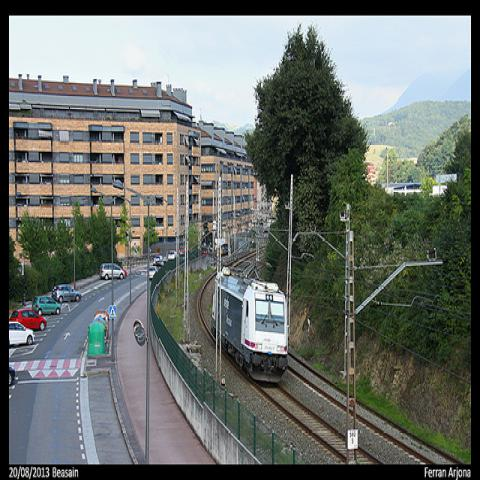car: (11, 308, 47, 329), (52, 283, 82, 303), (32, 296, 61, 316), (10, 323, 34, 345), (99, 263, 127, 281), (149, 265, 159, 280), (152, 255, 164, 266), (168, 250, 178, 260)
